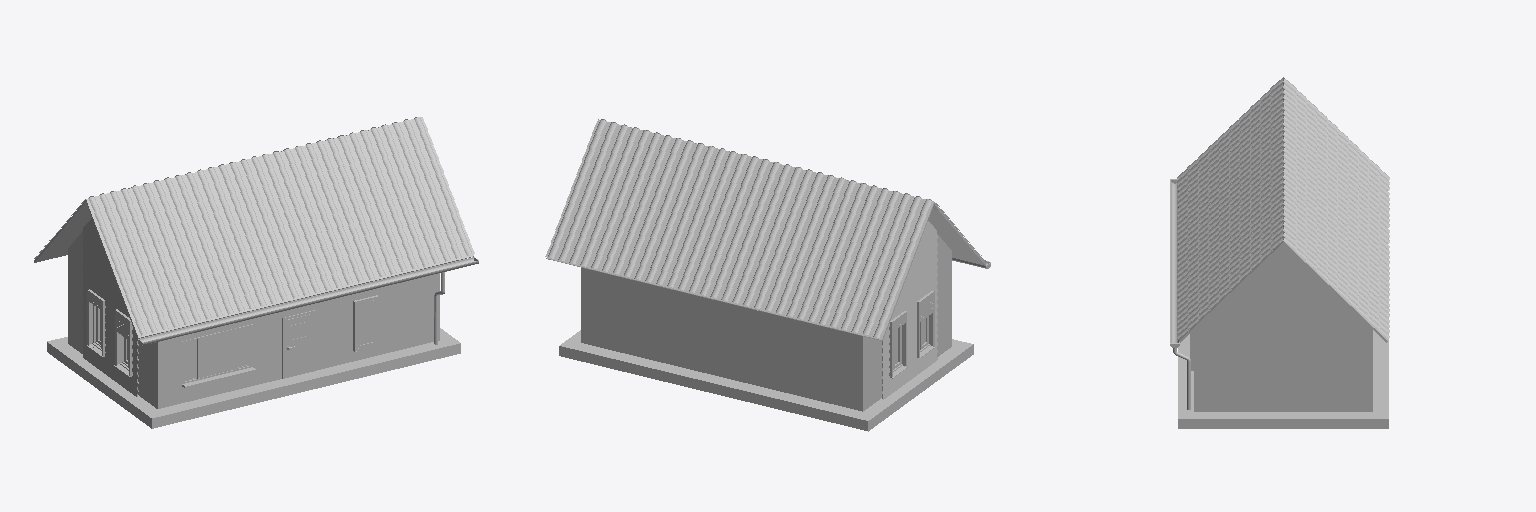
Rendered from Einfamilienhaus2.obj.
The picture shows the model from 3 angles: view 1: azimuth 30°, elevation 25°; view 2: azimuth 150°, elevation 25°; view 3: azimuth 270°, elevation 25°; orthographic projection.
Parts seen in each view (by area): view 1: Cube.002, Cube, Plane, Cube.003, Window, Cube.001, Circle, Door, Window.R; view 2: Cube.002, Cube, Plane, Cube.003, Cube.001; view 3: Cube.002, Cube, Plane, Cube.001, Circle.
Part boxes in pixels (x1,y1,x2,y2): Cube.002: (34,117,474,335); Cube: (68,231,439,408); Plane: (47,328,460,428); Cube.003: (82,218,138,396); Window: (182,324,255,388); Cube.001: (34,121,473,338); Circle: (138,257,478,345); Door: (285,314,312,377); Window.R: (357,300,376,348); Cube.002: (545,119,986,338); Cube: (581,234,951,411); Plane: (559,330,973,431); Cube.003: (882,221,937,399); Cube.001: (546,129,985,340); Cube.002: (1177,77,1389,339); Cube: (1194,244,1372,411); Plane: (1178,281,1388,428); Cube.001: (1179,78,1387,342); Circle: (1170,179,1179,347).
Bounding box in the file's own units: 7.13 × 3.96 × 4.04.